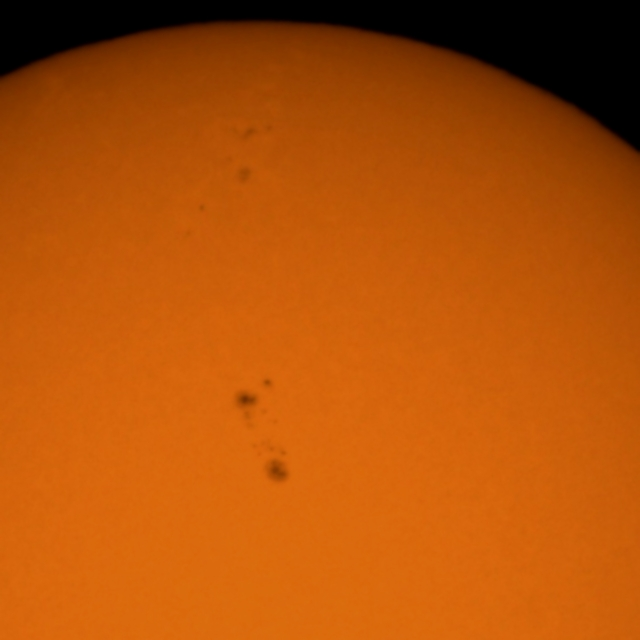sunspot: (232, 377, 281, 432), (260, 444, 292, 487), (232, 161, 255, 188), (260, 376, 276, 392), (196, 202, 208, 216)
